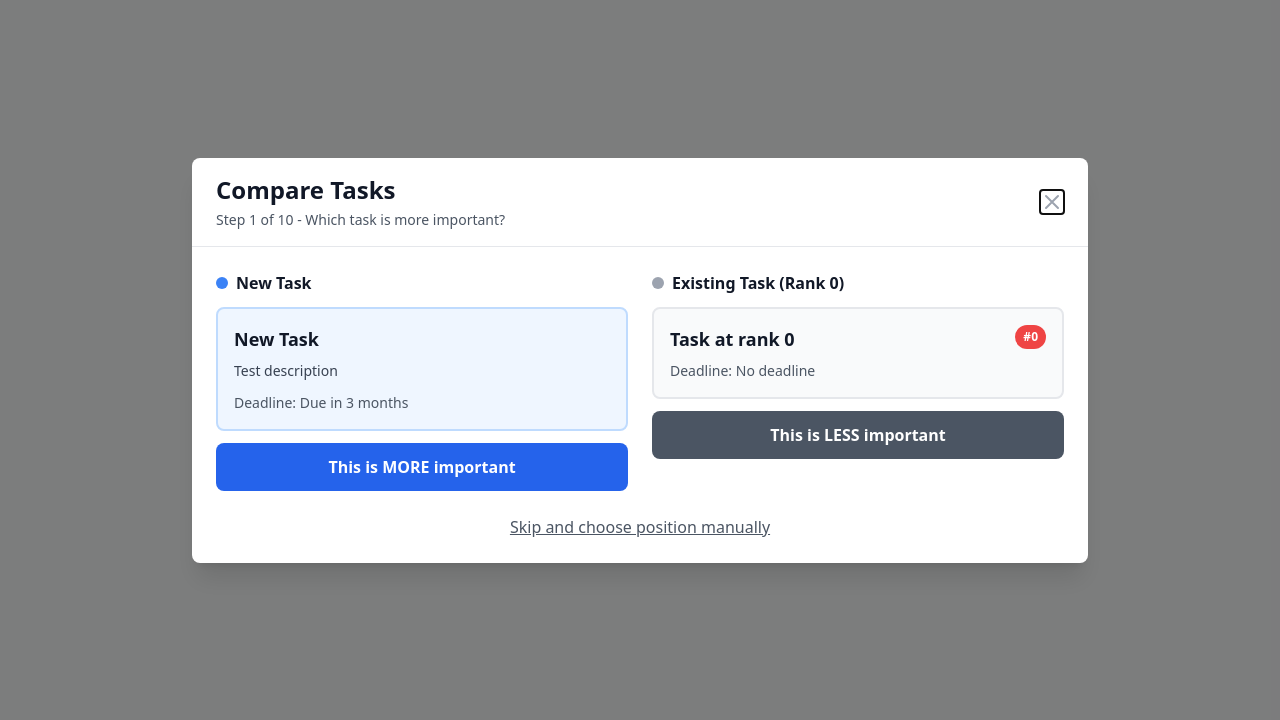
ComparisonModal Integration Tests › Post-Insertion Feedback (T046B) › should show specific feedback when only one task is shifted
Expected: the heading "Compare Tasks" is shown, [216, 172, 396, 206]
Note: Skip to manual placement
Click the button with test id "skip-button" at [640, 526], box [510, 514, 770, 538]
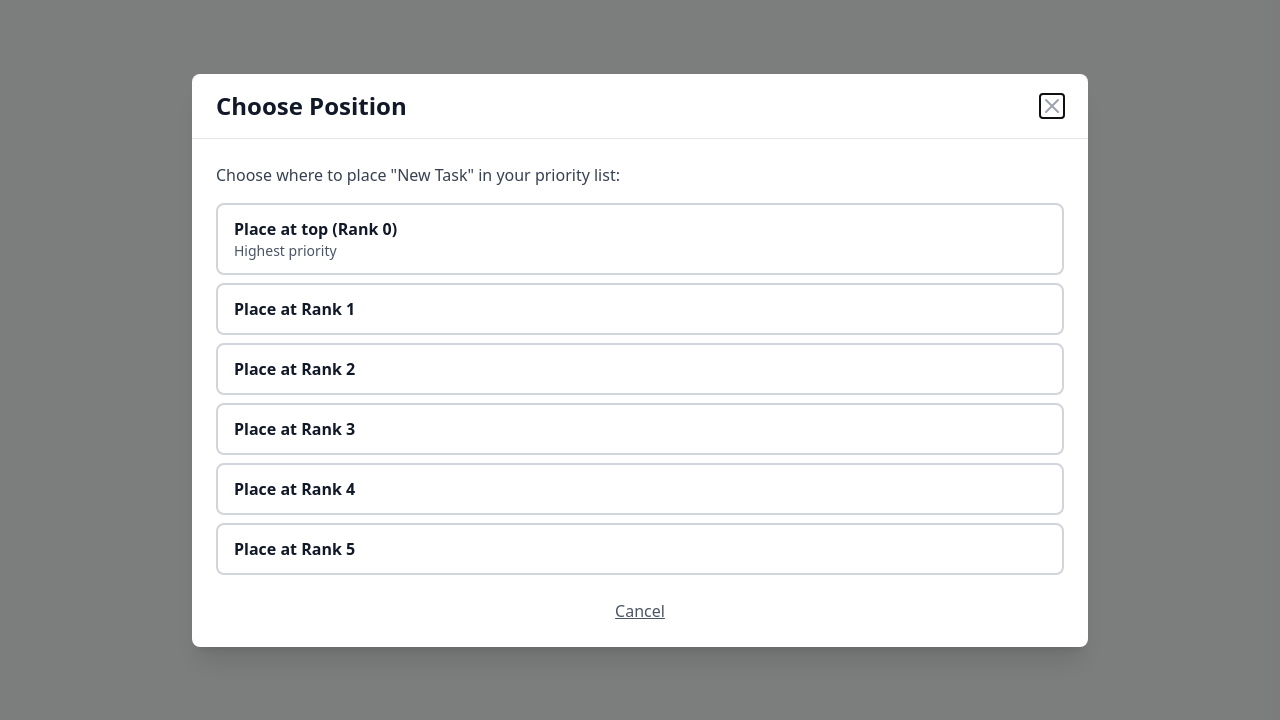
Result: the heading "Choose Position" is shown at [216, 90, 407, 122]
Note: Place at rank 0 (should shift existing rank 0 task to rank 1)
Click the button with test id "place-rank-0" at [316, 228], box [216, 202, 1064, 274]
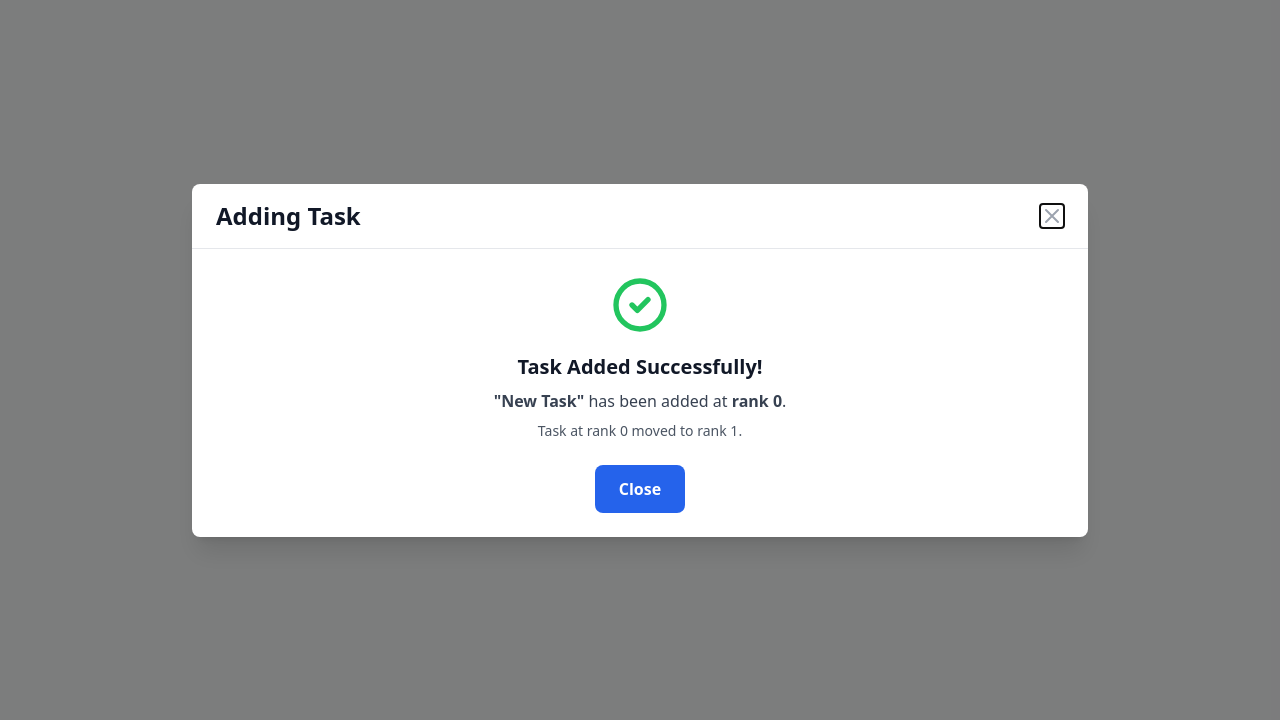
Result: the heading "Task Added Successfully!" is shown at [518, 352, 762, 380]
Result: the text with test id "shift-feedback" shows "Task at rank 0 moved to rank 1" at [538, 420, 742, 440]
